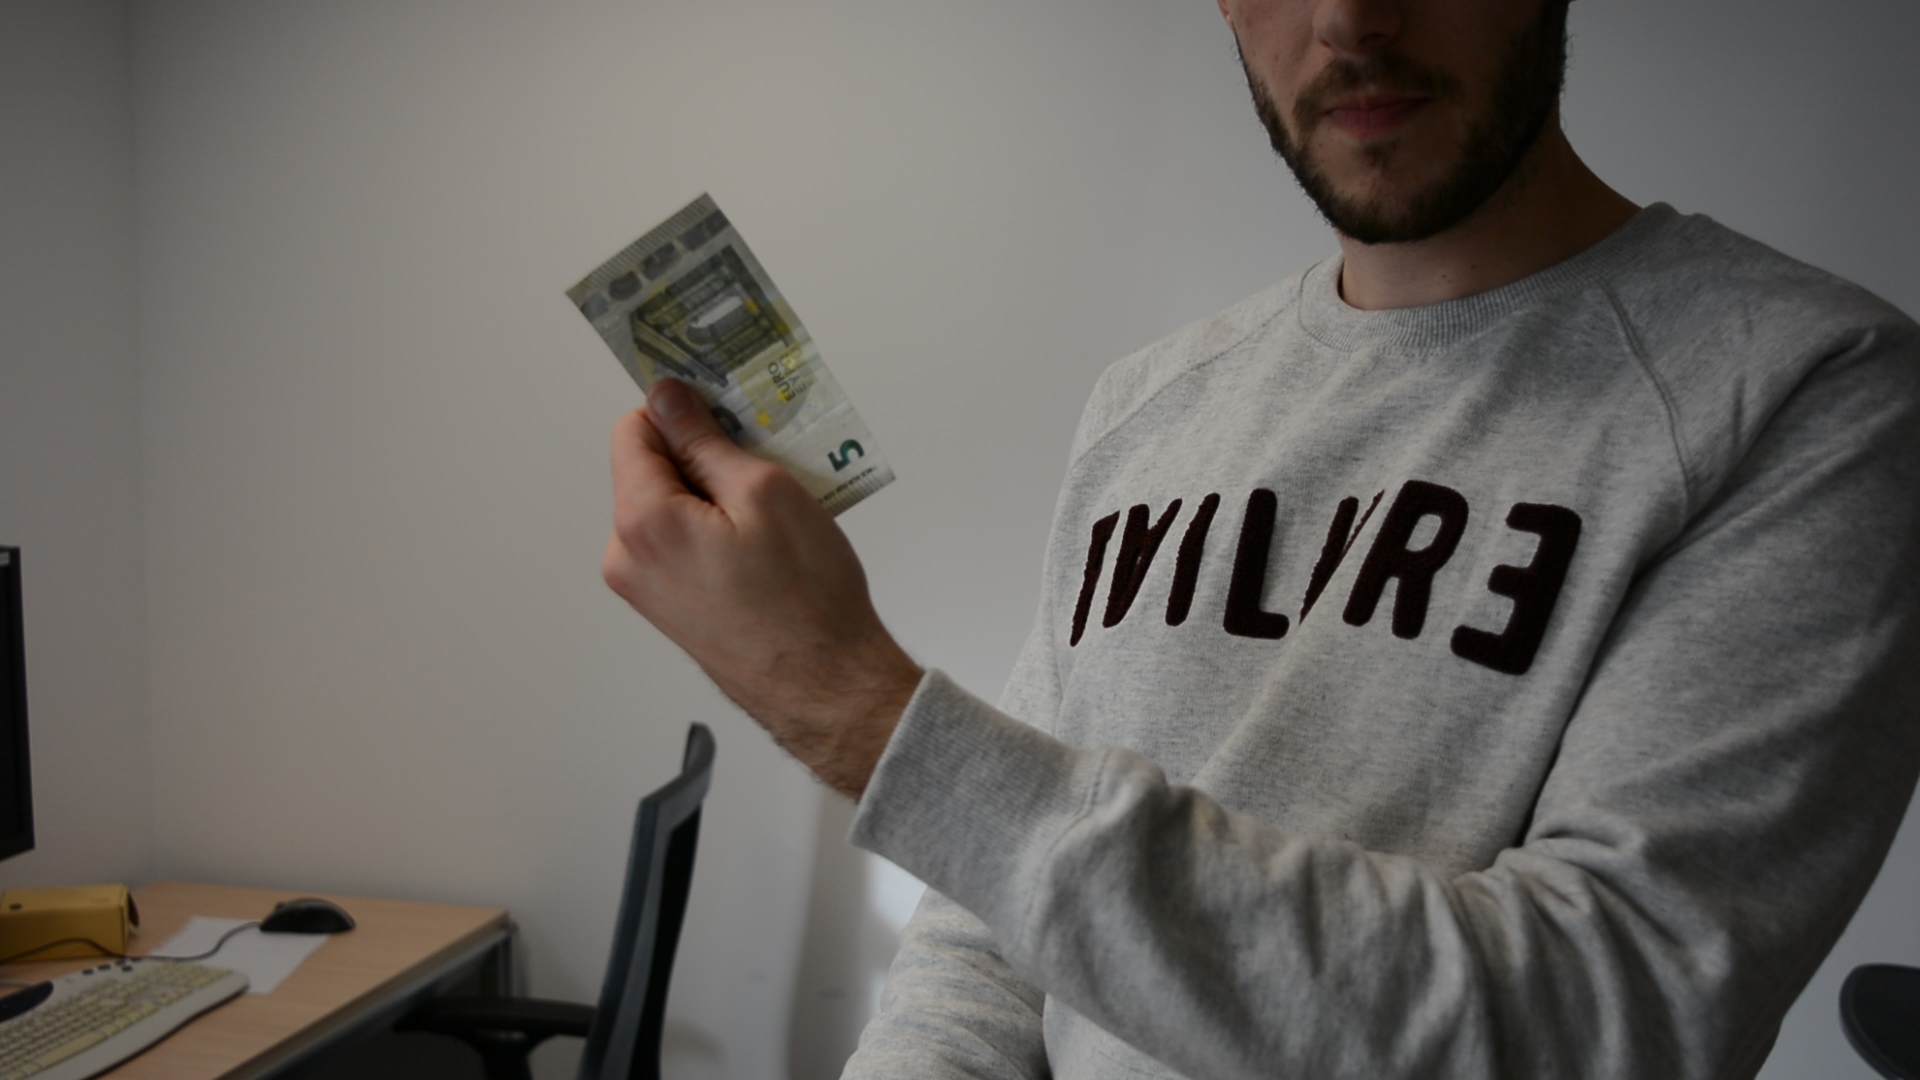billete: (560, 189, 902, 522)
